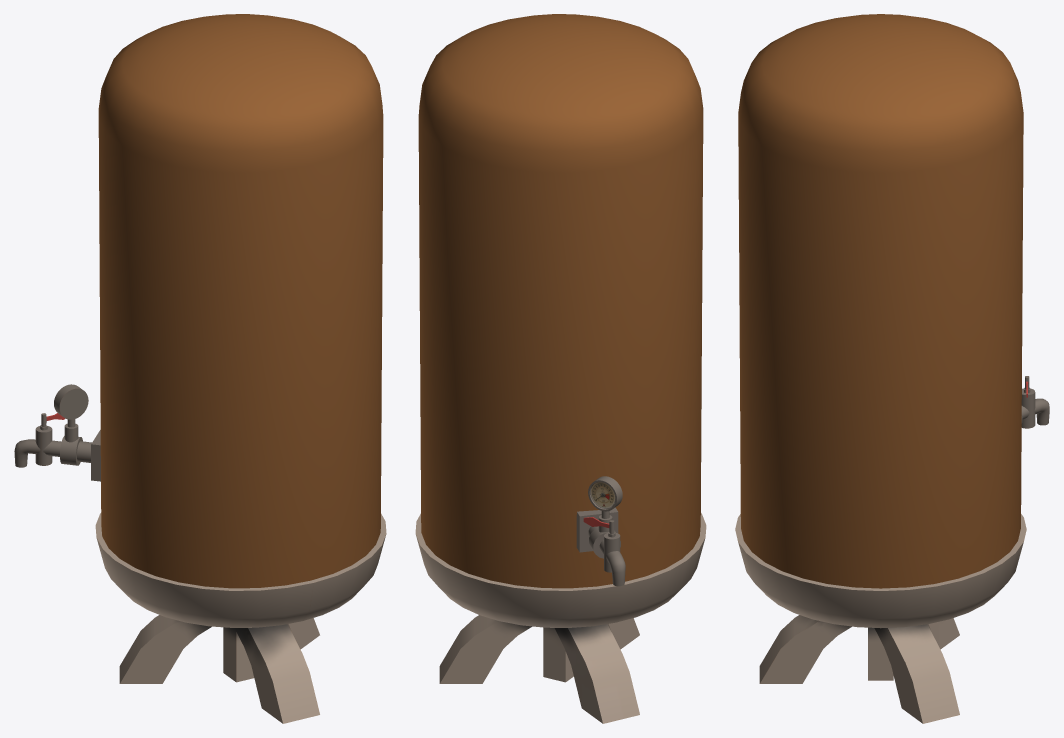
The model's file is Titan_Kranik.fbx.
The picture shows the model from 3 angles, left to right: view 1: azimuth 30°, elevation 25°; view 2: azimuth 150°, elevation 25°; view 3: azimuth 270°, elevation 25°; orthographic projection.
Parts seen in each view (by area): view 1: Titan; view 2: Titan; view 3: Titan.
Boxes of the visible parts, x1,y1,x2,y2 form: Titan: (14,14,386,723); Titan: (415,14,706,723); Titan: (735,14,1049,723).
Size of the model in its own units: 43.83 by 98 by 44.11.
